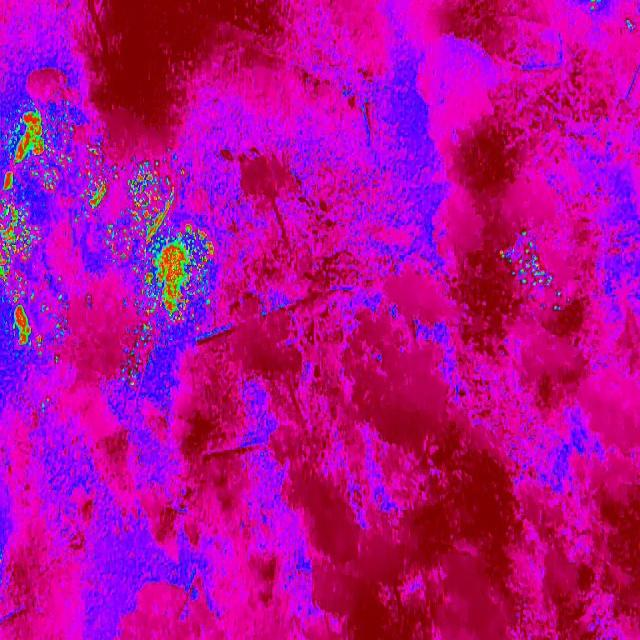fire: (0, 100, 72, 379), (119, 162, 217, 324), (72, 134, 119, 230), (496, 234, 554, 288), (118, 323, 158, 388)
